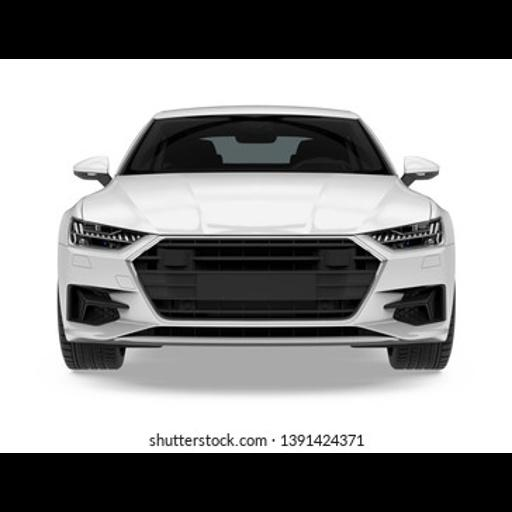sedan: (58, 106, 454, 368)
